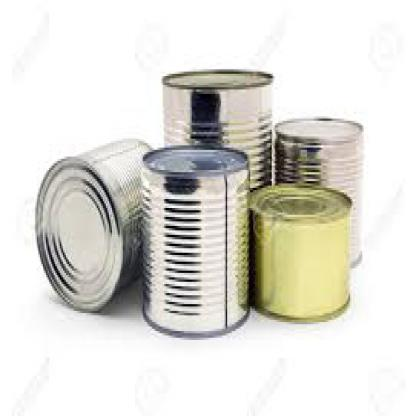Compsot: (32, 139, 163, 313), (141, 148, 246, 336), (248, 181, 352, 322), (161, 70, 270, 192), (273, 118, 361, 264)
